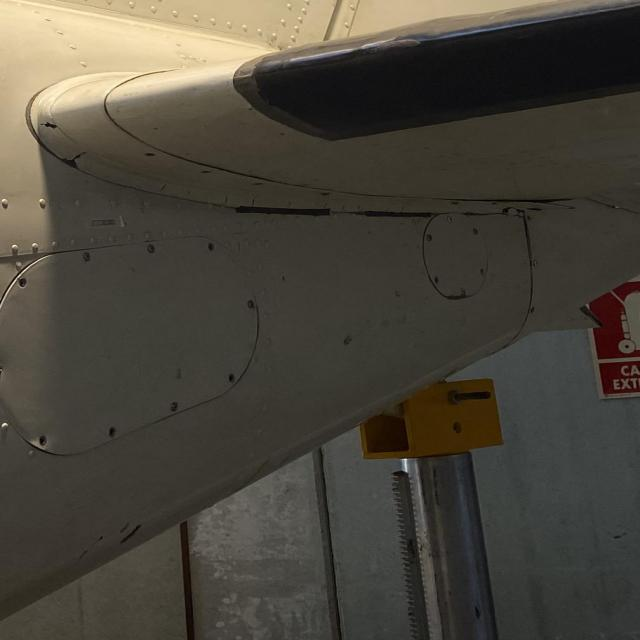Fastener Damage: (108, 425, 119, 438), (226, 371, 237, 383), (18, 277, 28, 290), (207, 240, 216, 253), (36, 435, 46, 445), (144, 152, 155, 157)
